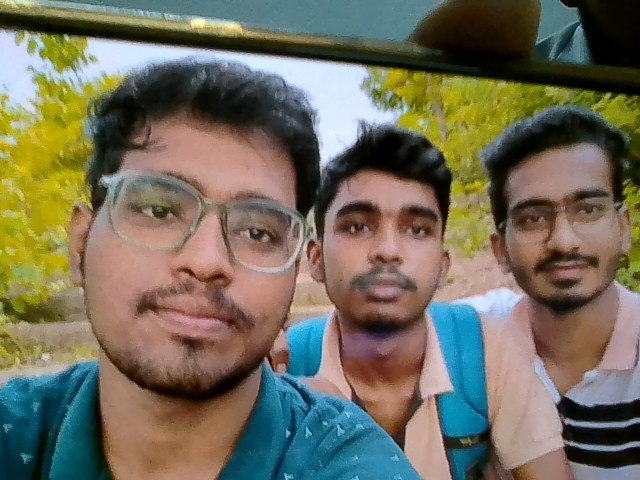real: (60, 43, 324, 417), (305, 119, 461, 340)
